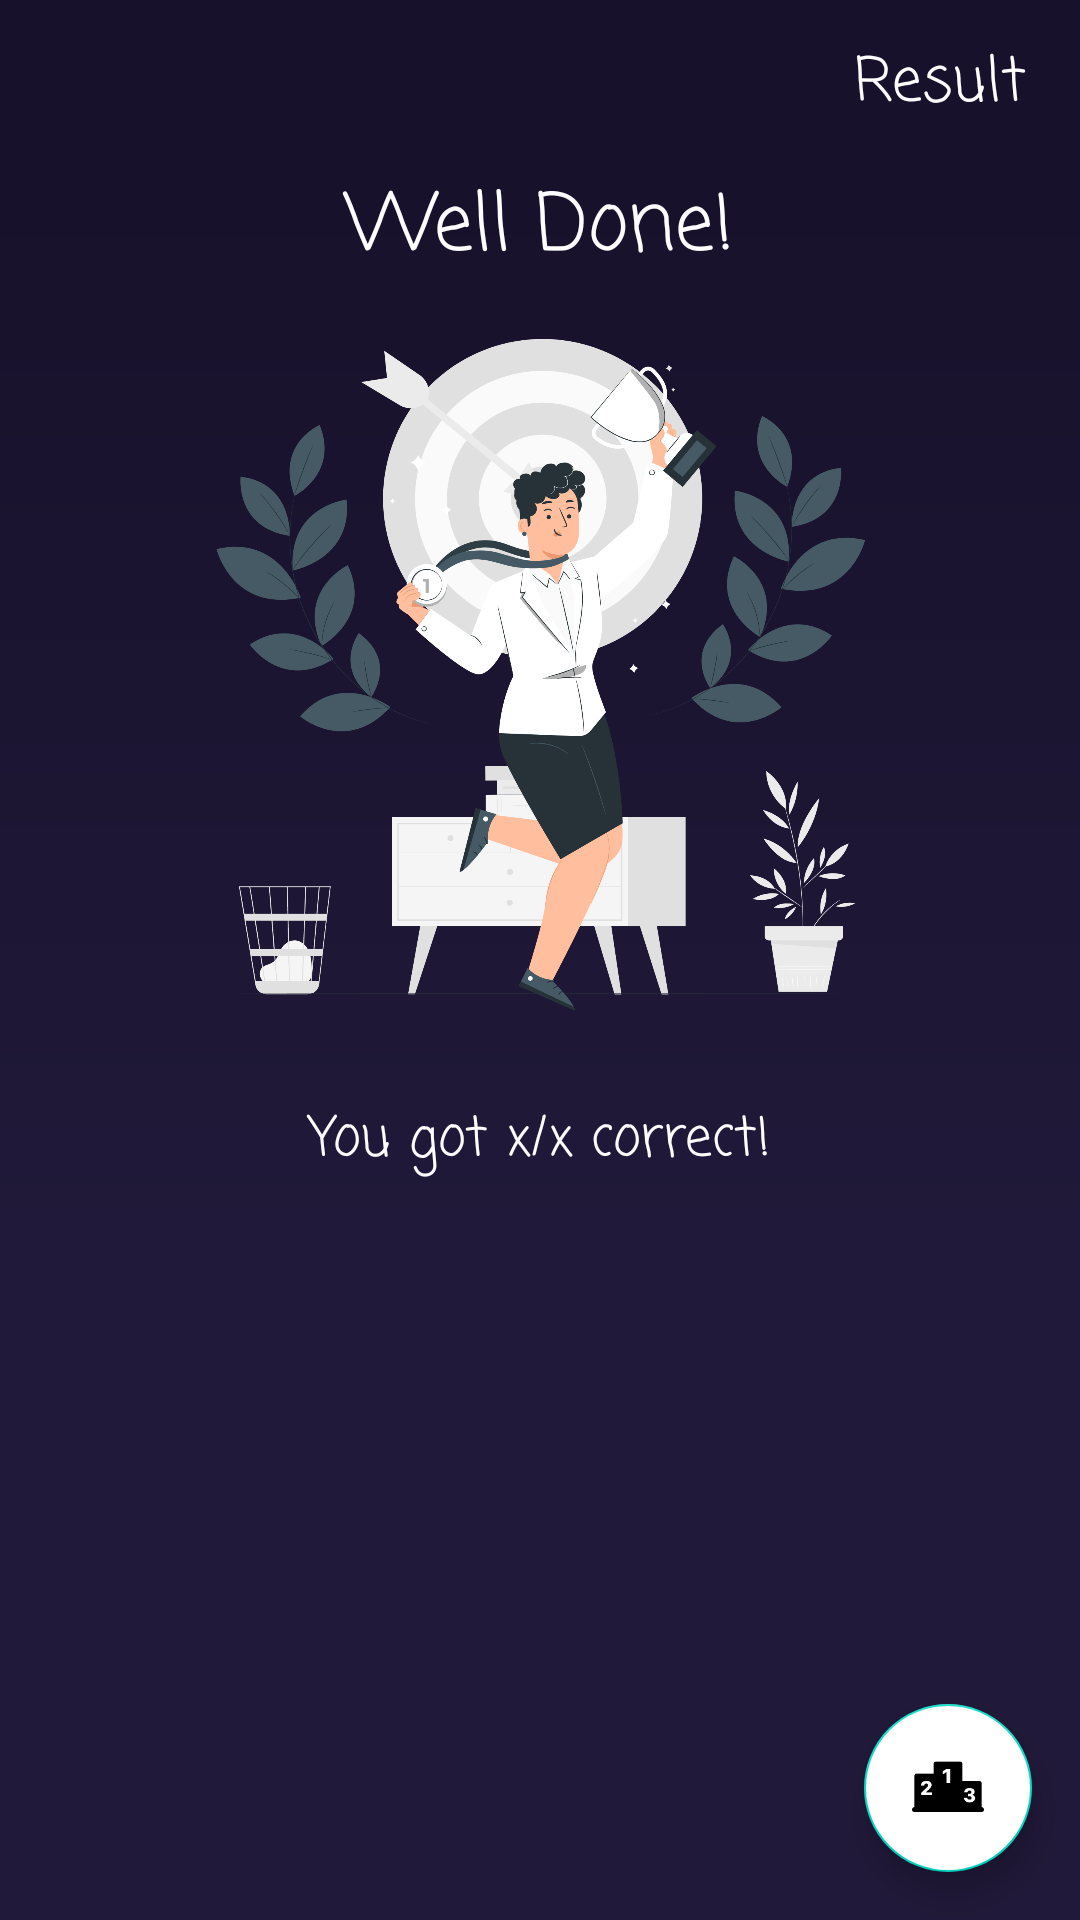

Locate icon controls on the screen. Image size 1080px x 1920px, boxes as (x1, y1, x2, y2).
Button to go to leaderboard: (864, 1704, 1032, 1872)
